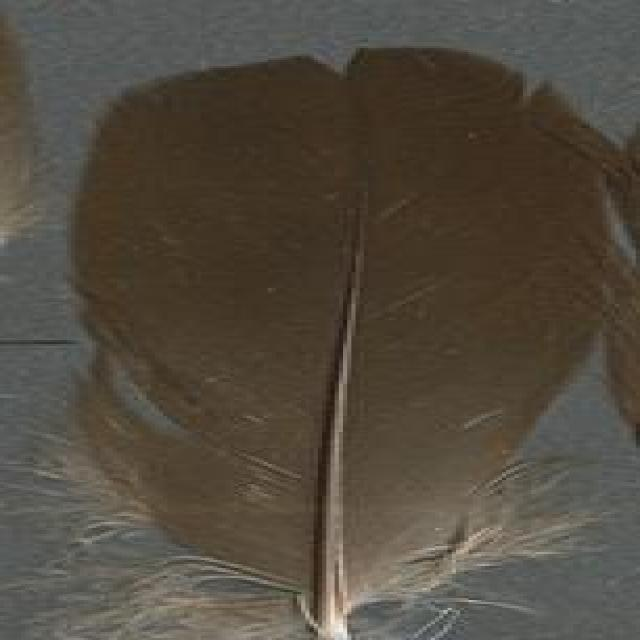feather: (62, 14, 640, 640)
